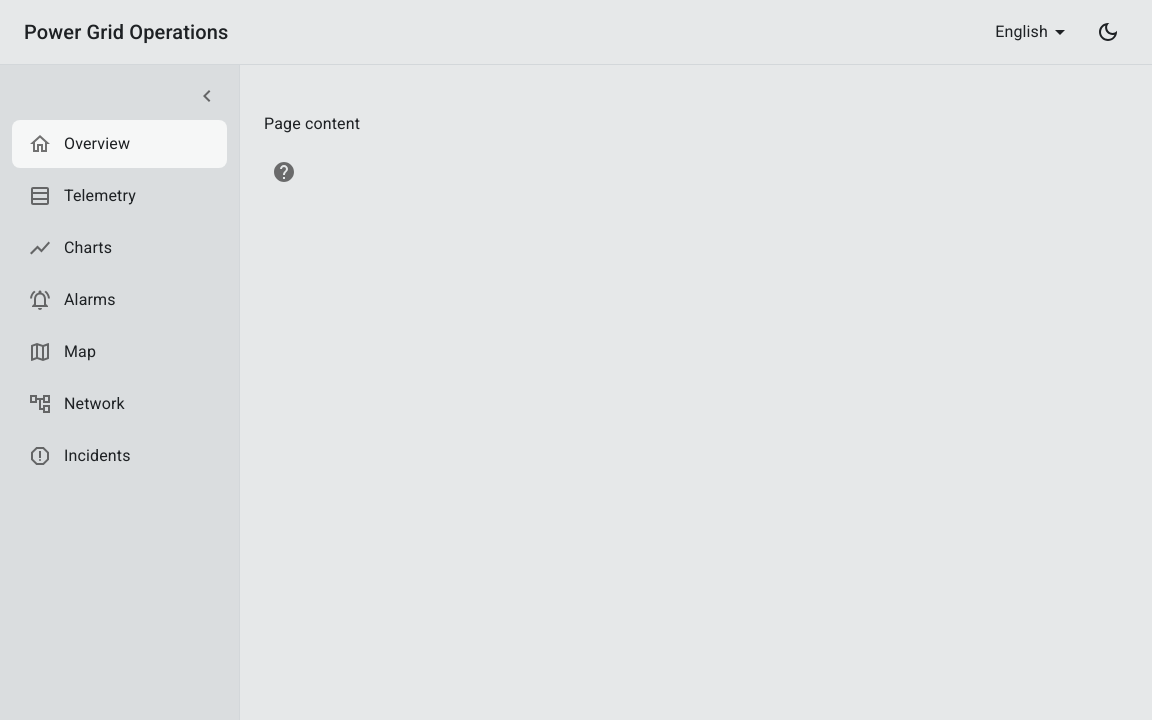
Layout › opens section help beside the page, folding the sidebar until it closes
The width and height of the screenshot is (1152, 720).
Click the button named "About this section".
click(284, 172)  # box [264,152,304,192]
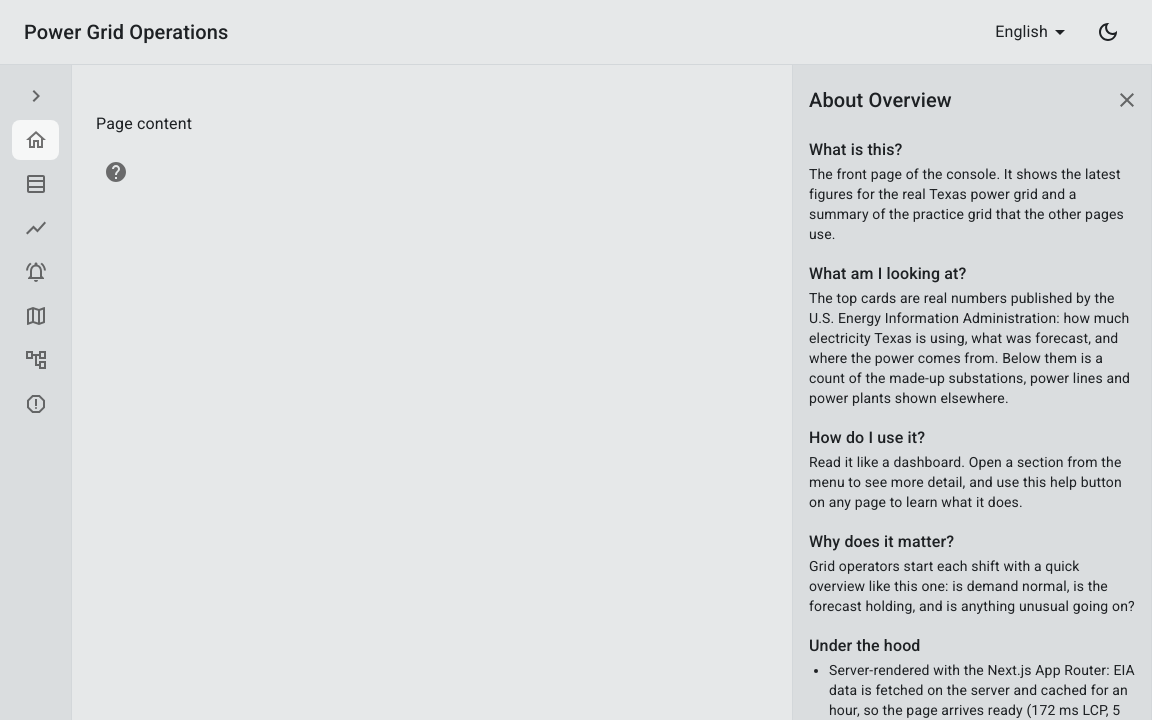
Expected: the button named "About this section" is expanded, [96,152,136,192]
Expected: the heading "What is this?" is shown, [809,140,902,159]
Expected: the heading "Under the hood" is shown, [809,636,920,655]
Press Escape
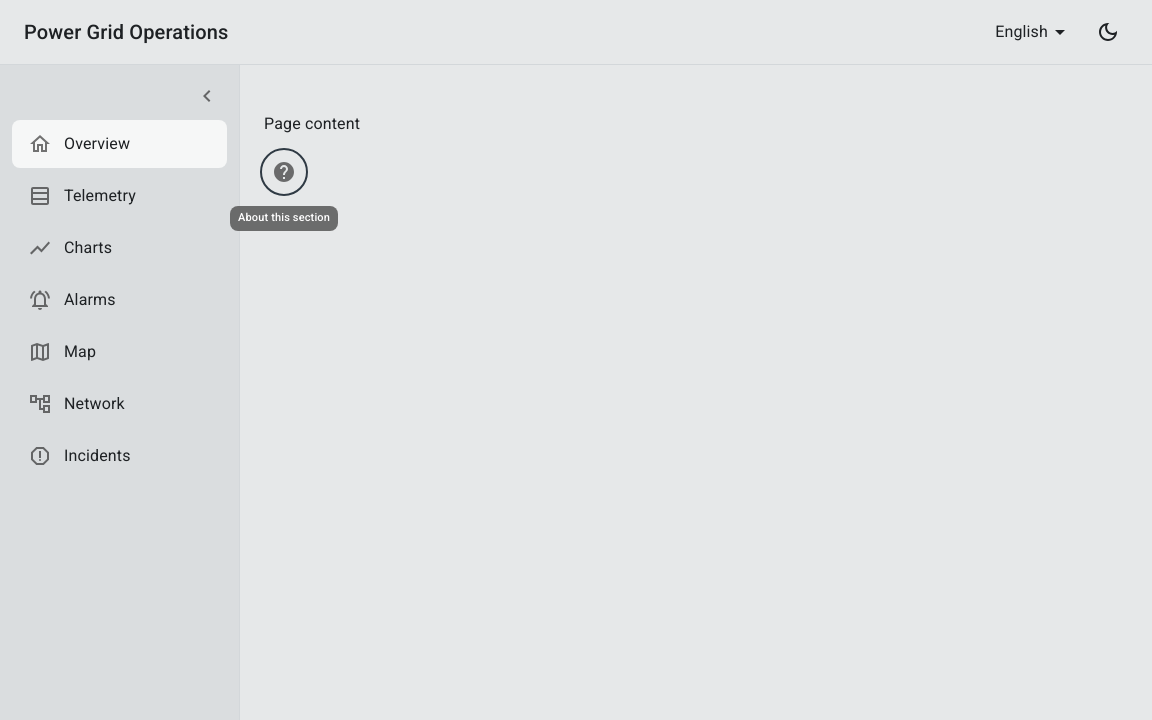
Expected: the button named "About this section" is collapsed, [264,152,304,192]
Expected: the button named "Collapse menu" is shown, [187,76,227,116]
